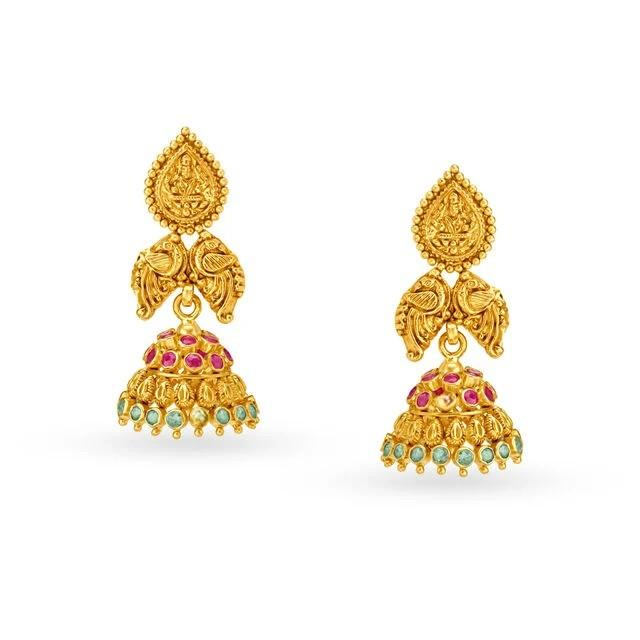missing gem: (191, 409, 206, 427), (438, 393, 453, 408)
